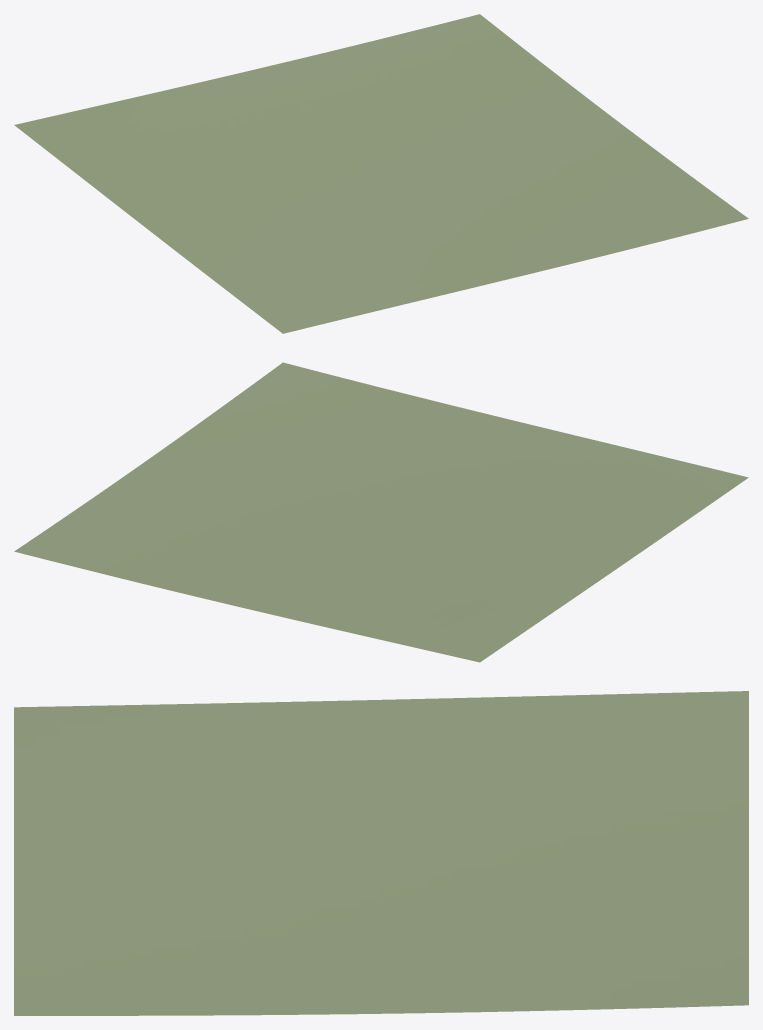
File: expanse-28-8.glb
3 renders of one model, top to bottom at view 1: azimuth 30°, elevation 25°; view 2: azimuth 150°, elevation 25°; view 3: azimuth 270°, elevation 25°, orthographic. The views are drawn at different scales.
Parts seen in each view (by area): view 1: expanse-28-8; view 2: expanse-28-8; view 3: expanse-28-8.
Part boxes in pixels (box(x1,y1,x2,y2)): expanse-28-8: box(14, 14, 748, 333); expanse-28-8: box(14, 362, 748, 662); expanse-28-8: box(14, 691, 748, 1015).
Size of the model in its own units: 256 by 6.47 by 256.
